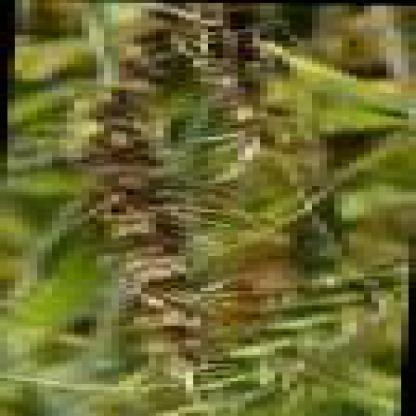Wheat Smut: (210, 15, 274, 60), (124, 32, 193, 70), (95, 124, 155, 166), (114, 218, 171, 255), (104, 172, 160, 209), (239, 254, 297, 289), (210, 297, 276, 327), (239, 112, 297, 141), (131, 274, 191, 302), (100, 90, 142, 120), (154, 319, 200, 346), (227, 73, 265, 100), (330, 132, 364, 156)
